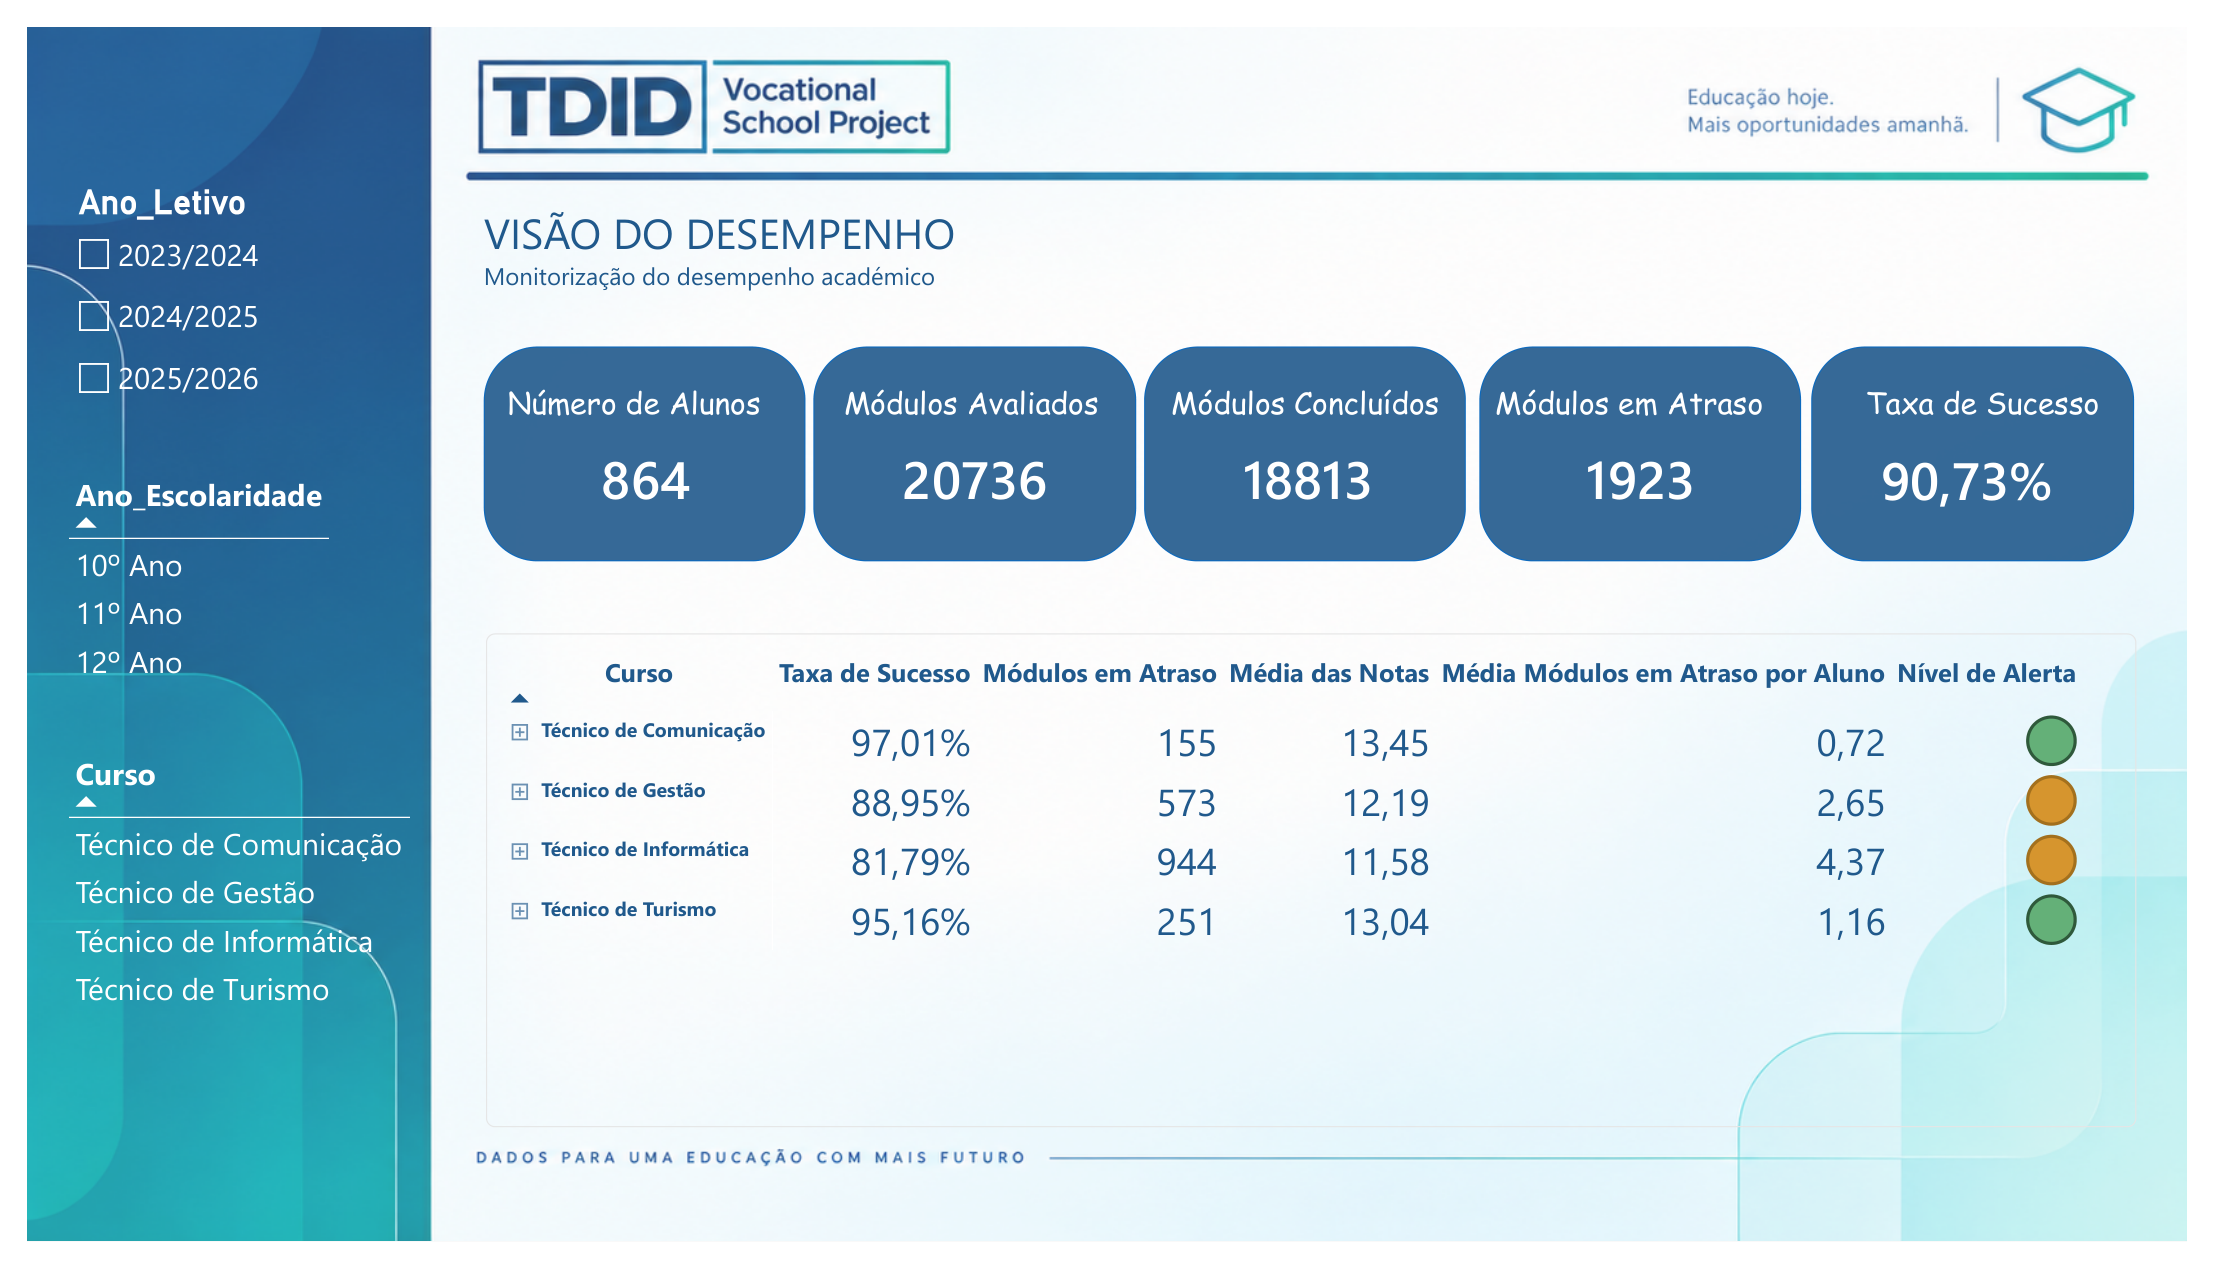

What the dashboard file says about the page in this screenshot:
{"tool":"powerbi","page":{"name":"Visão do Desempenho","canvas":[1920,1080],"ordinal":1},"visuals":[{"type":"tableEx","fields":{"Values":["dCurso.Curso"]},"box":[21.5,627.5,362.7,326.9],"z":0},{"type":"slicer","fields":{"Values":["dCalendario.Ano_Letivo"]},"box":[38.2,138.4,195.6,217.1],"z":1000},{"type":"tableEx","fields":{"Values":["dMatricula.Ano_Escolaridade"]},"box":[21.5,379.4,295.9,248.1],"z":2000},{"type":"shape","box":[406,283.9,286.3,190.9],"z":3000},{"type":"textbox","box":[427.4,314.9,245.7,54.9],"z":4000},{"type":"shape","box":[699.4,283.9,286.3,190.9],"z":5000},{"type":"shape","box":[992.9,283.9,286.3,190.9],"z":6000},{"type":"shape","box":[1291.1,283.9,286.3,190.9],"z":7000},{"type":"shape","box":[1586.2,283.9,286.3,190.9],"z":8000},{"type":"textbox","box":[725.7,314.9,274.4,54.9],"z":9000},{"type":"textbox","box":[1016.8,314.9,274.4,54.9],"z":10000},{"type":"textbox","box":[1305.5,314.9,274.4,54.9],"z":11000},{"type":"textbox","box":[1633.6,314.9,274.4,54.9],"z":12000},{"type":"card","fields":{"Values":["_Medidas.Nº Alunos"]},"box":[408,326.9,283.9,147.9],"z":13000},{"type":"card","fields":{"Values":["_Medidas.Módulos Avaliados"]},"box":[692.3,326.9,300.6,147.9],"z":14000},{"type":"card","fields":{"Values":["_Medidas.Módulos Concluídos"]},"box":[988.1,326.9,300.6,147.9],"z":15000},{"type":"card","fields":{"Values":["_Medidas.Módulos em Atraso"]},"box":[1284,326.9,300.6,147.9],"z":16000},{"type":"card","fields":{"Values":["_Medidas.Taxa de Sucesso"]},"box":[1574.3,326.9,300.6,150.3],"z":17000},{"type":"textbox","box":[405.6,157.5,486.7,126.5],"z":18000},{"type":"pivotTable","fields":{"Rows":["dCurso.Curso","dMatricula.Ano_Escolaridade","dDisciplina.Disciplina"],"Values":["_Medidas.Taxa de Sucesso","_Medidas.Módulos em Atraso","_Medidas.Média das Notas","_Medidas.Média Módulos em Atraso por Aluno","_Medidas.Nível de Alerta"]},"box":[408,539.2,1467.3,439],"z":19000}]}

Visuals, with their boxes in screenshot pixels (x1, y1, x2, y2), scaled from the page's 1920x1080 canvas onto the 2214x1269 screenshot:
tableEx - dCurso.Curso: bbox=[25, 737, 443, 1121]
slicer - dCalendario.Ano_Letivo: bbox=[44, 163, 270, 418]
tableEx - dMatricula.Ano_Escolaridade: bbox=[25, 446, 366, 737]
shape: bbox=[468, 334, 798, 558]
textbox: bbox=[493, 370, 776, 435]
shape: bbox=[806, 334, 1137, 558]
shape: bbox=[1145, 334, 1475, 558]
shape: bbox=[1489, 334, 1819, 558]
shape: bbox=[1829, 334, 2159, 558]
textbox: bbox=[837, 370, 1153, 435]
textbox: bbox=[1172, 370, 1489, 435]
textbox: bbox=[1505, 370, 1822, 435]
textbox: bbox=[1884, 370, 2200, 435]
card - _Medidas.Nº Alunos: bbox=[470, 384, 798, 558]
card - _Medidas.Módulos Avaliados: bbox=[798, 384, 1145, 558]
card - _Medidas.Módulos Concluídos: bbox=[1139, 384, 1486, 558]
card - _Medidas.Módulos em Atraso: bbox=[1481, 384, 1827, 558]
card - _Medidas.Taxa de Sucesso: bbox=[1815, 384, 2162, 561]
textbox: bbox=[468, 185, 1029, 334]
pivotTable - dCurso.Curso x dMatricula.Ano_Escolaridade: bbox=[470, 634, 2162, 1149]
